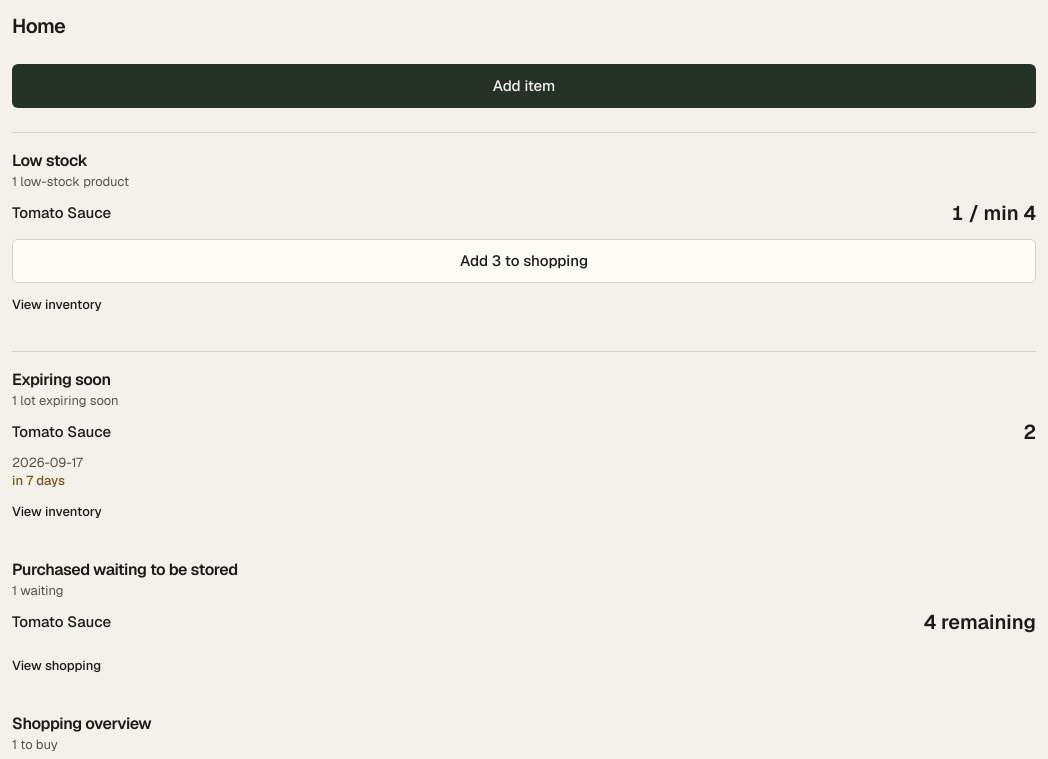
HomeDashboardScreen › maps invalid product without showing codes
Click the button with aria-label "Add 3 Tomato Sauce to shopping".
click(524, 261)  # box [12,239,1036,283]
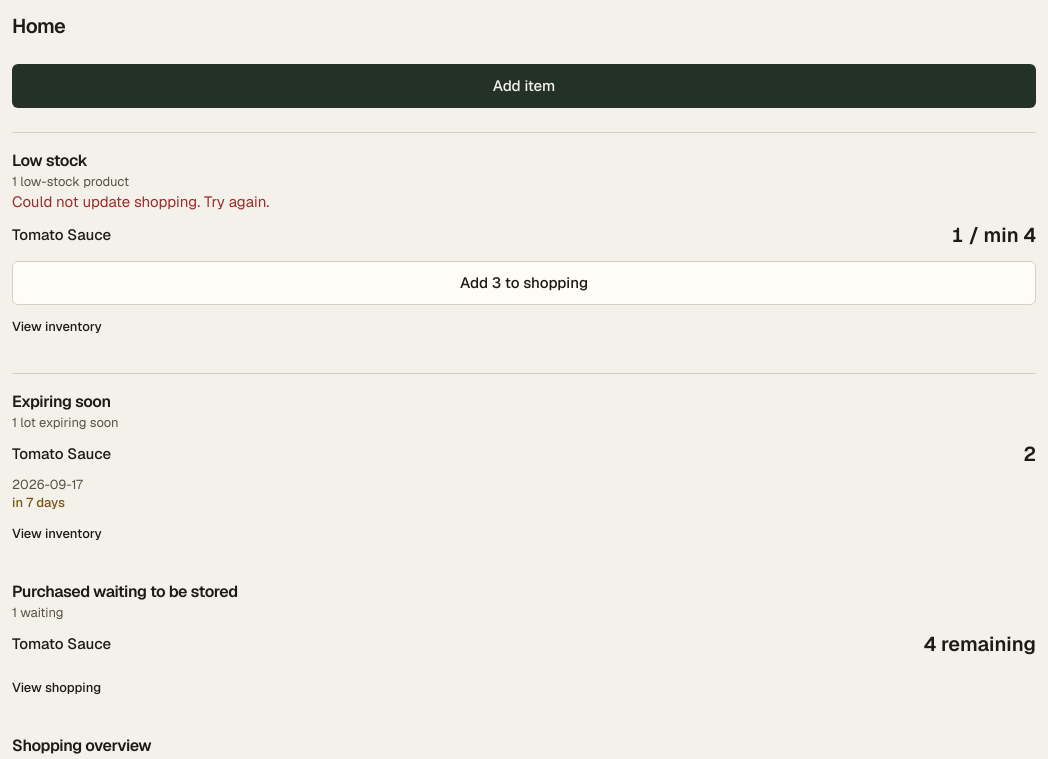
Now the text "Could not update shopping. Try again." is shown, box [12,192,269,211]
